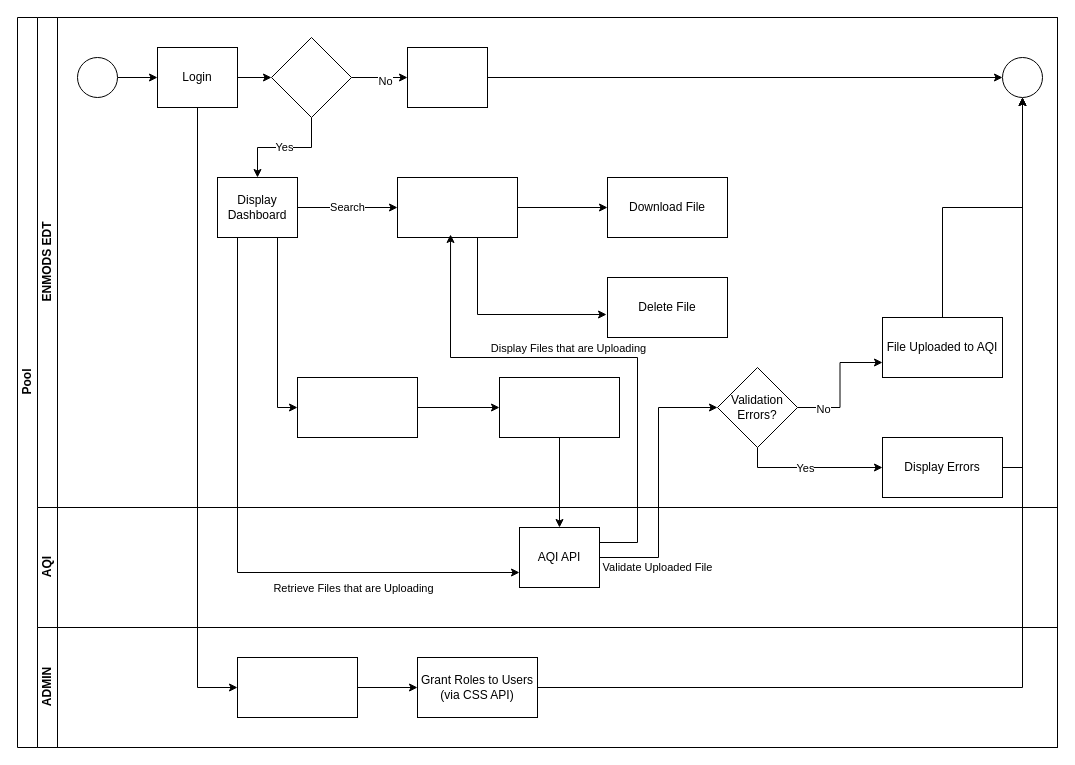
This 1075x765 diagram has some shape labels left out. The shapes that lost their labels are listed below. From the top down, each one's centre as x and y in pixels, then its label:
At (311,77): "Success?".
At (447,77): "Display Siteminder Login Error".
At (457,207): "Display Files".
At (357,407): "Upload File".
At (559,407): "Local Validation".
At (297,687): "Display Admin Screen".
